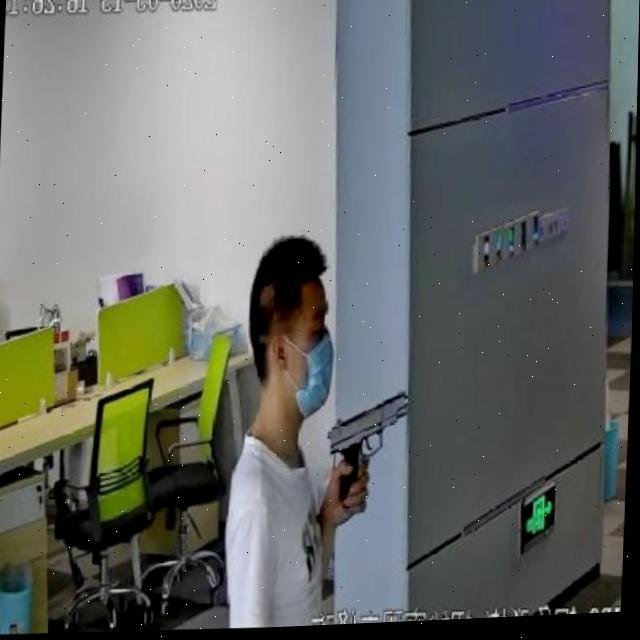gun: (322, 366, 422, 534)
